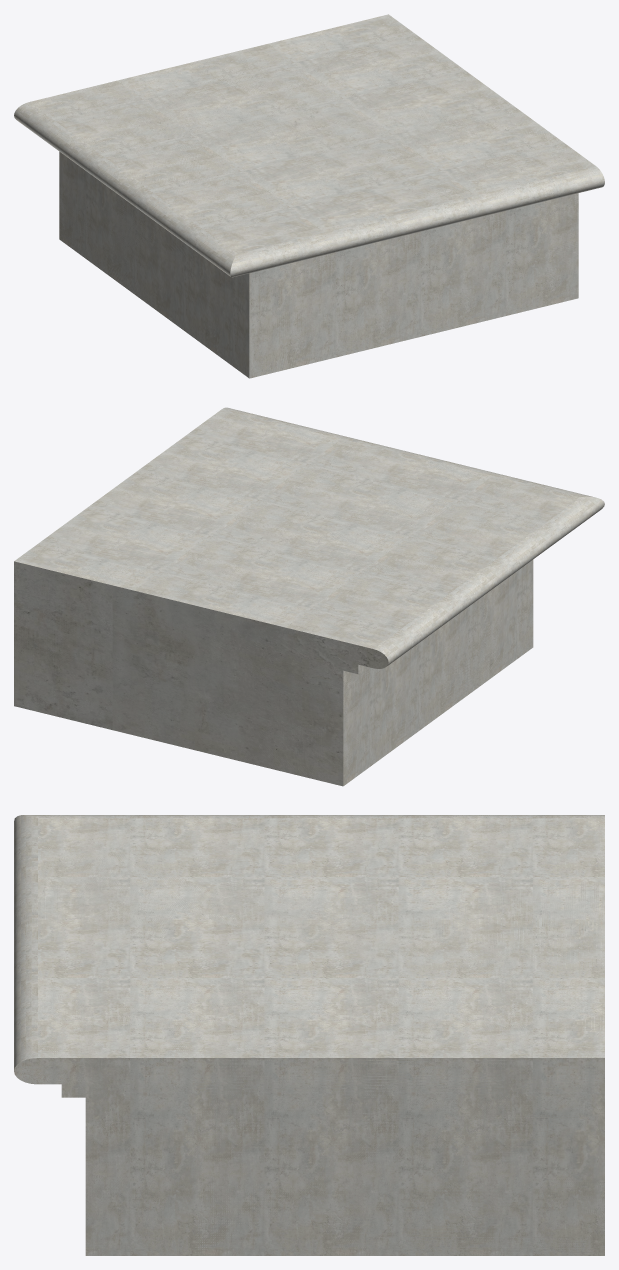
Rendered from border_brick.fbx.
3 views of the same model, one above another, from view 1: azimuth 30°, elevation 25°; view 2: azimuth 150°, elevation 25°; view 3: azimuth 270°, elevation 25° (orthographic). The views are drawn at different scales.
Parts seen in each view (by area): view 1: Group1; view 2: Group1; view 3: Group1.
Part boxes in pixels (x1=…): Group1: x1=14, y1=14, x2=604, y2=378; Group1: x1=14, y1=407, x2=604, y2=786; Group1: x1=14, y1=815, x2=604, y2=1255.
Size of the model in its own units: 0.2478 by 0.0915 by 0.2478.
